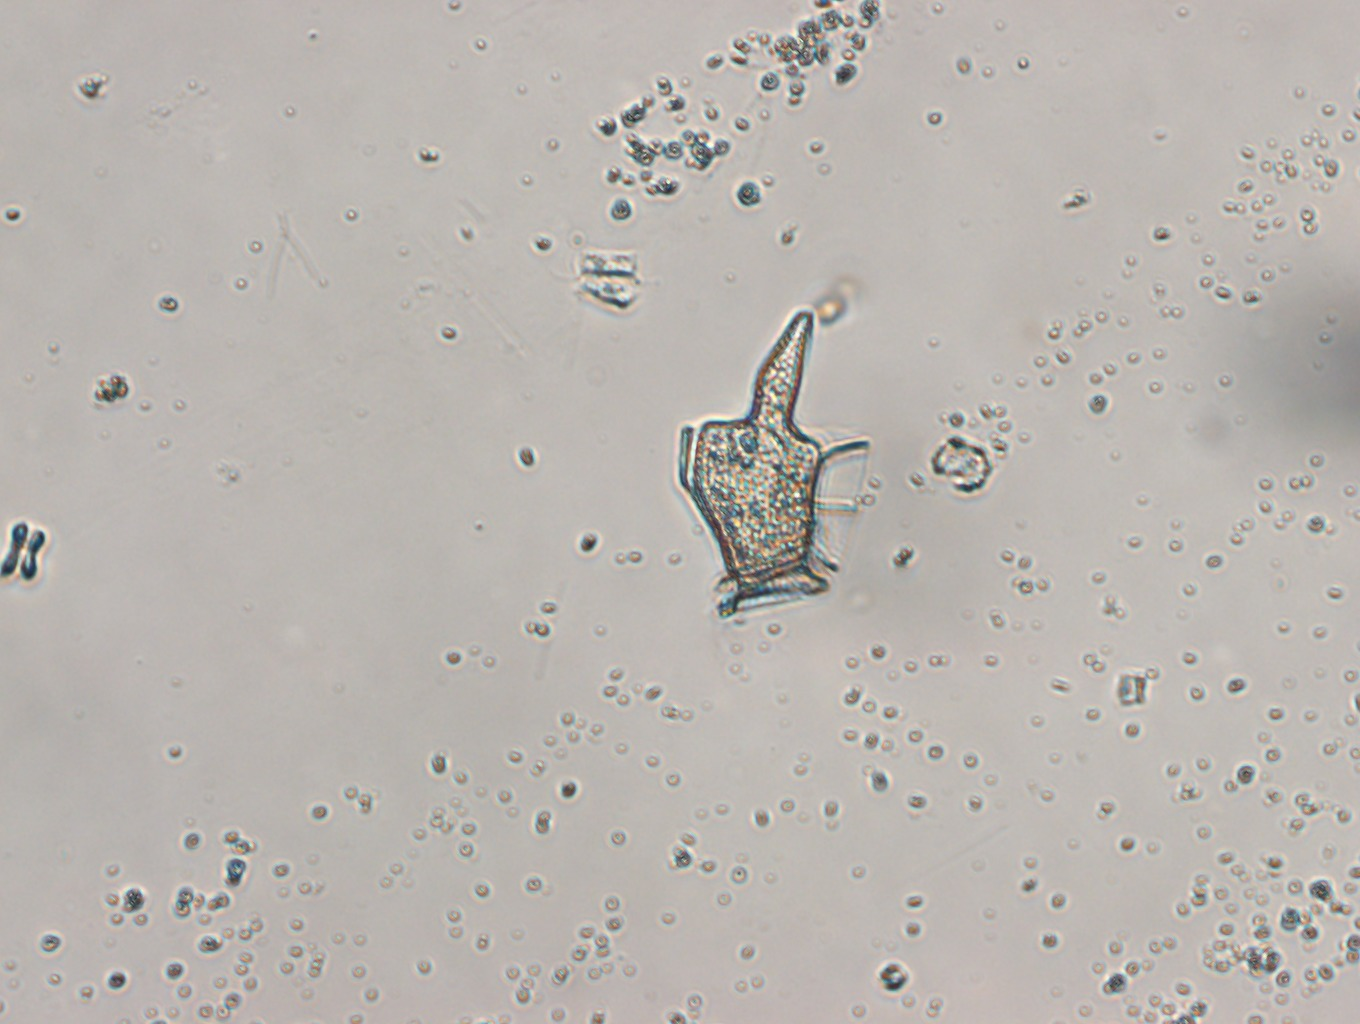dinophysis caudata: (676, 304, 876, 629)
